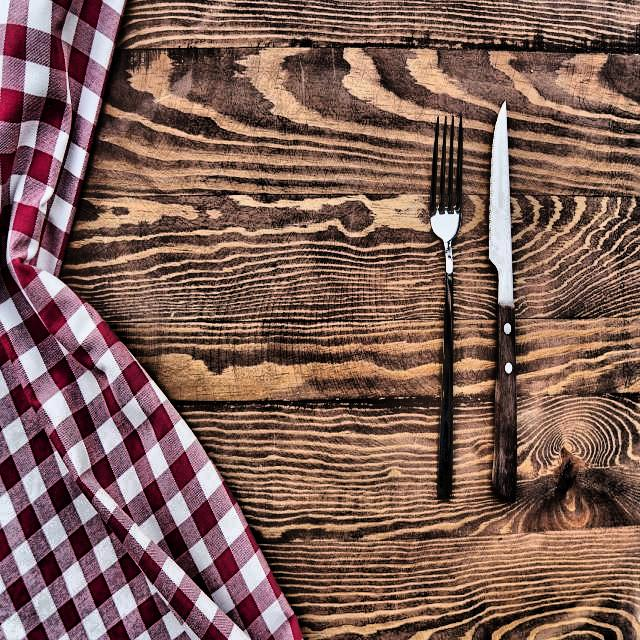knife: (487, 98, 525, 508)
